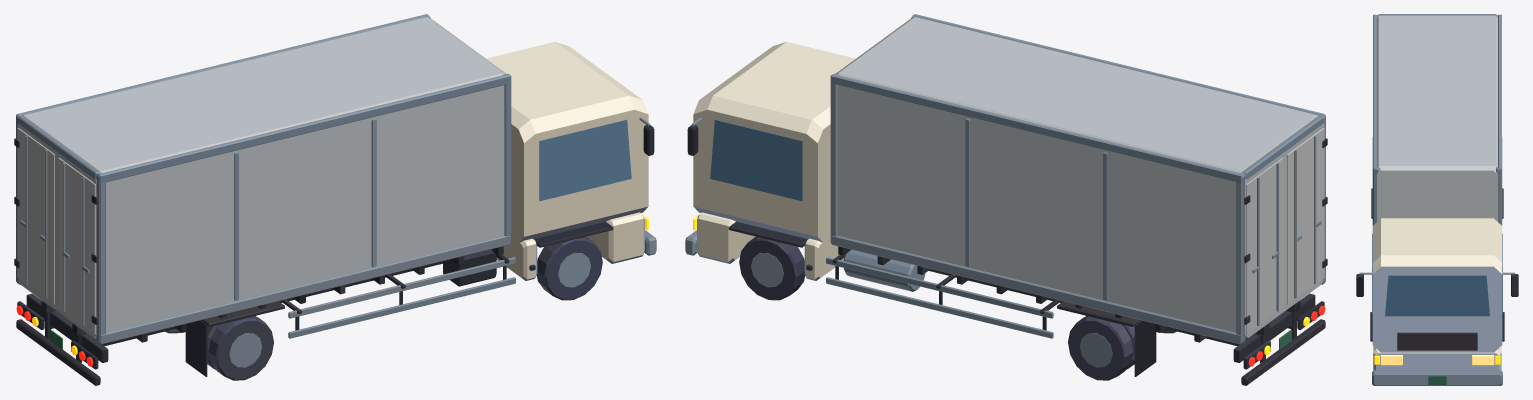
Rendered from HK_Truck_Medium.glb.
3 renders of one model, left to right at view 1: azimuth 30°, elevation 25°; view 2: azimuth 150°, elevation 25°; view 3: azimuth 270°, elevation 25°, orthographic. The views are drawn at different scales.
Visible parts, largest first — view 1: HK_Truck_Medium; view 2: HK_Truck_Medium; view 3: HK_Truck_Medium.
Boxes of the visible parts, x1=… form: HK_Truck_Medium: x1=14, y1=14, x2=656, y2=385; HK_Truck_Medium: x1=685, y1=14, x2=1327, y2=385; HK_Truck_Medium: x1=1356, y1=14, x2=1518, y2=385.
Size of the model in its own units: 8.81 by 3.62 by 2.88.
